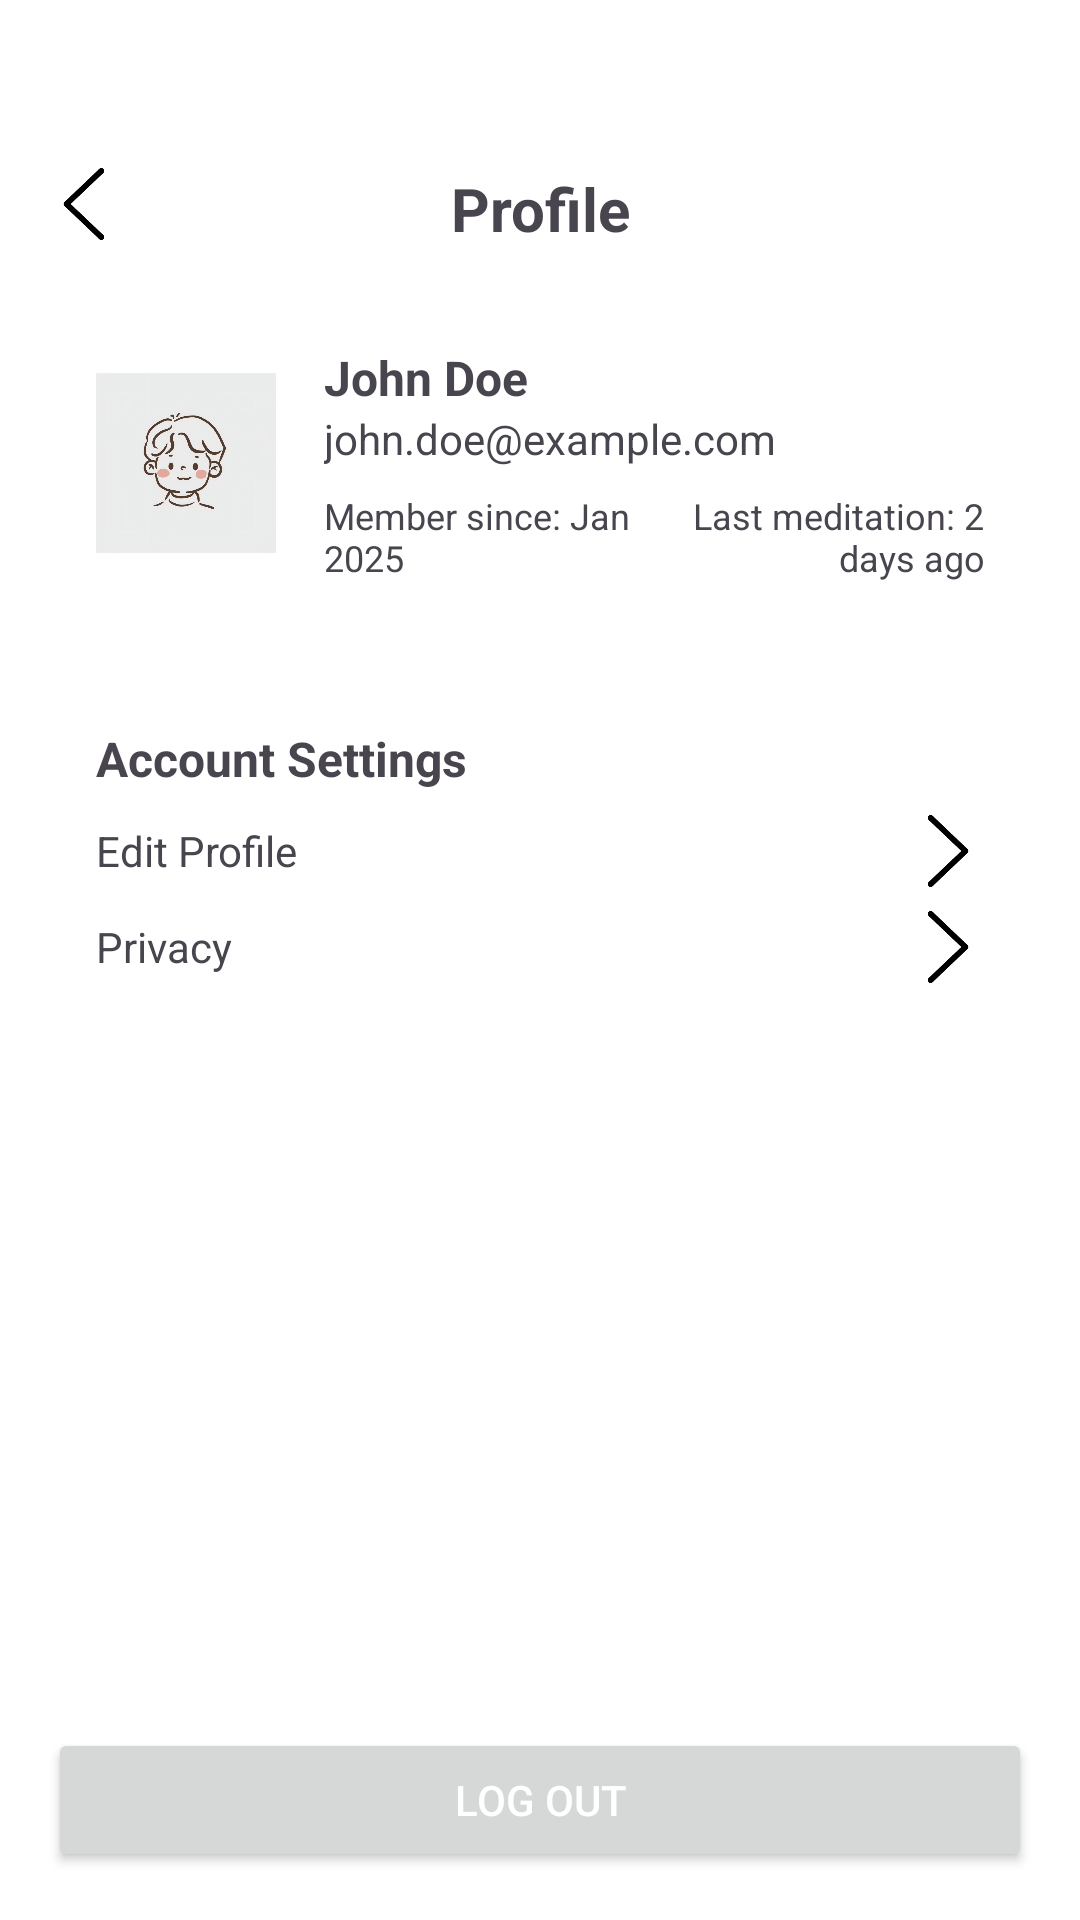

Screen size 1080×1920. Icon name, then its box in pixels as box(x1, y1, x2, y2):
Arrow Icon: box(928, 815, 969, 887), box(928, 911, 969, 983)
